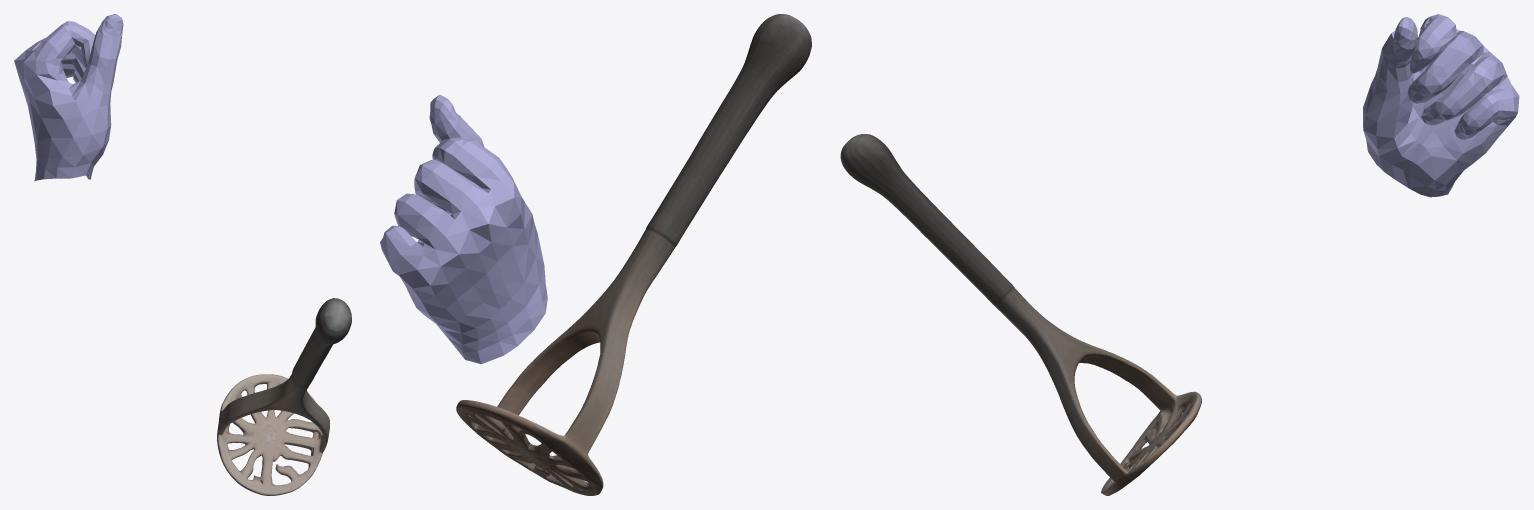
Rendered from frame_0016_source_000016_hand_object.glb.
3 renders of one model, left to right at view 1: azimuth 30°, elevation 25°; view 2: azimuth 150°, elevation 25°; view 3: azimuth 270°, elevation 25°, orthographic. The views are drawn at different scales.
Visible parts, largest first — view 1: world; view 2: world; view 3: world.
Boxes of the visible parts, <box> form: world: <box>14,14,351,495</box>; world: <box>380,14,811,495</box>; world: <box>840,14,1519,495</box>.
Bounding box in the file's own units: 0.1286 × 0.2873 × 0.3919.
